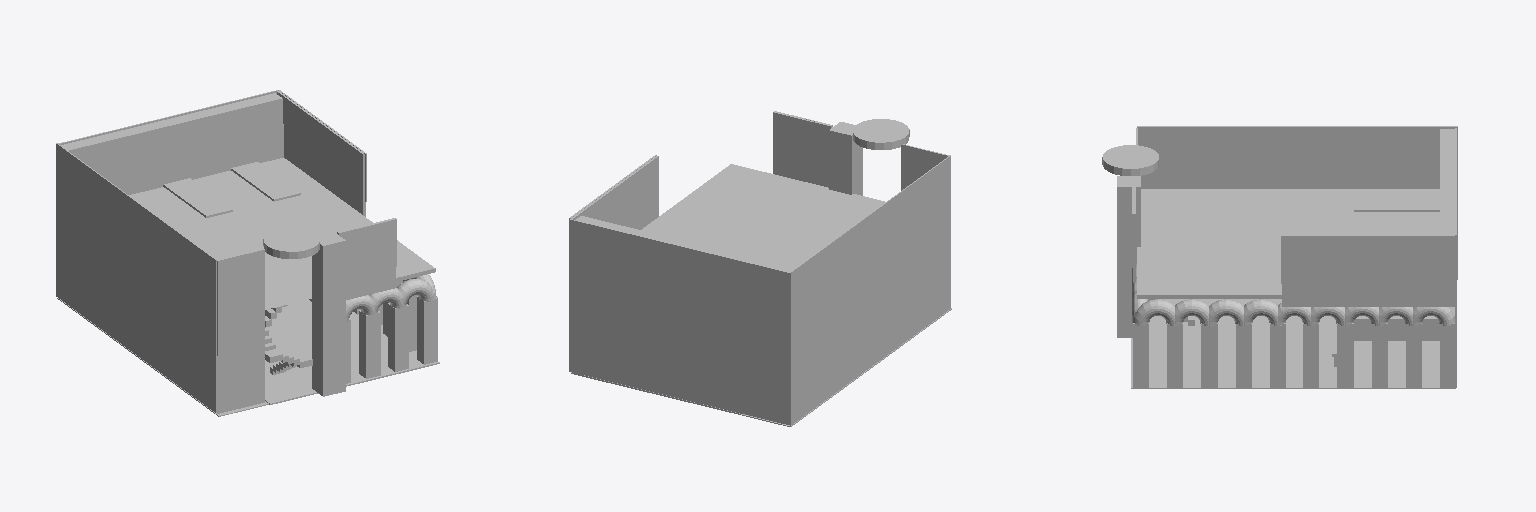
The model's file is fachadita.obj.
The picture shows the model from 3 angles: view 1: azimuth 30°, elevation 25°; view 2: azimuth 150°, elevation 25°; view 3: azimuth 270°, elevation 25°; orthographic projection.
Parts seen in each view (by area): view 1: pasted__pasted__pasted__pCube33; view 2: pasted__pasted__pasted__pCube33; view 3: pasted__pasted__pasted__pCube33.
Part boxes in pixels (left/top/right/bottom): pasted__pasted__pasted__pCube33: left=56, top=90, right=439, bottom=416; pasted__pasted__pasted__pCube33: left=569, top=111, right=951, bottom=426; pasted__pasted__pasted__pCube33: left=1102, top=126, right=1457, bottom=388.
Bounding box in the file's own units: 25.69 × 17.61 × 35.37.